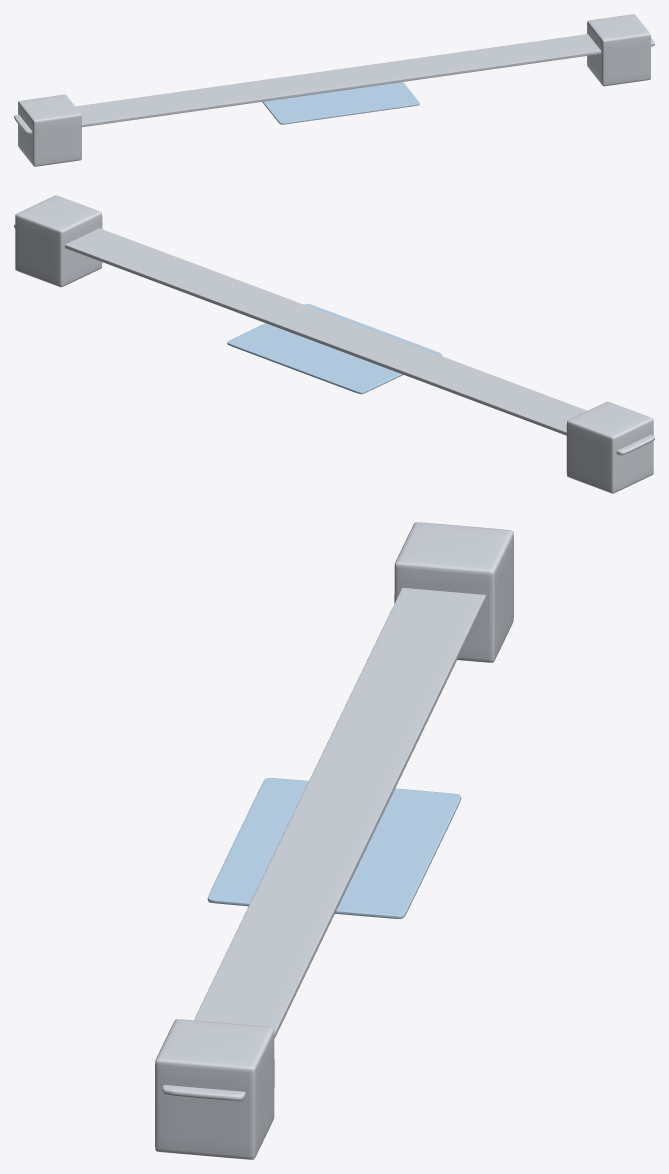
File: PROP_SwingSet_v0.glb
3 views of the same model, one above another, from view 1: azimuth 30°, elevation 25°; view 2: azimuth 150°, elevation 25°; view 3: azimuth 270°, elevation 25° (orthographic). The views are drawn at different scales.
Parts seen in each view (by area): view 1: PROP_SwingSet_v0; view 2: PROP_SwingSet_v0; view 3: PROP_SwingSet_v0.
Part boxes in pixels (x1,y1,x2,y2): PROP_SwingSet_v0: (14, 14, 654, 166); PROP_SwingSet_v0: (14, 195, 654, 493); PROP_SwingSet_v0: (155, 522, 513, 1159).
Size of the model in its own units: 12.78 by 0.9997 by 3.49.
